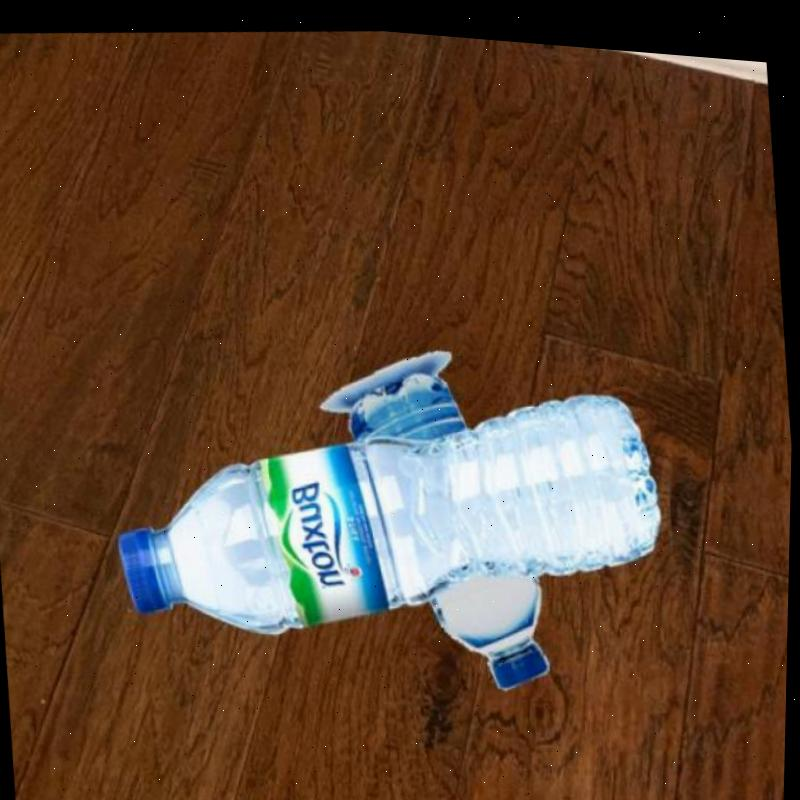botella: (108, 348, 680, 672), (340, 352, 561, 697)
